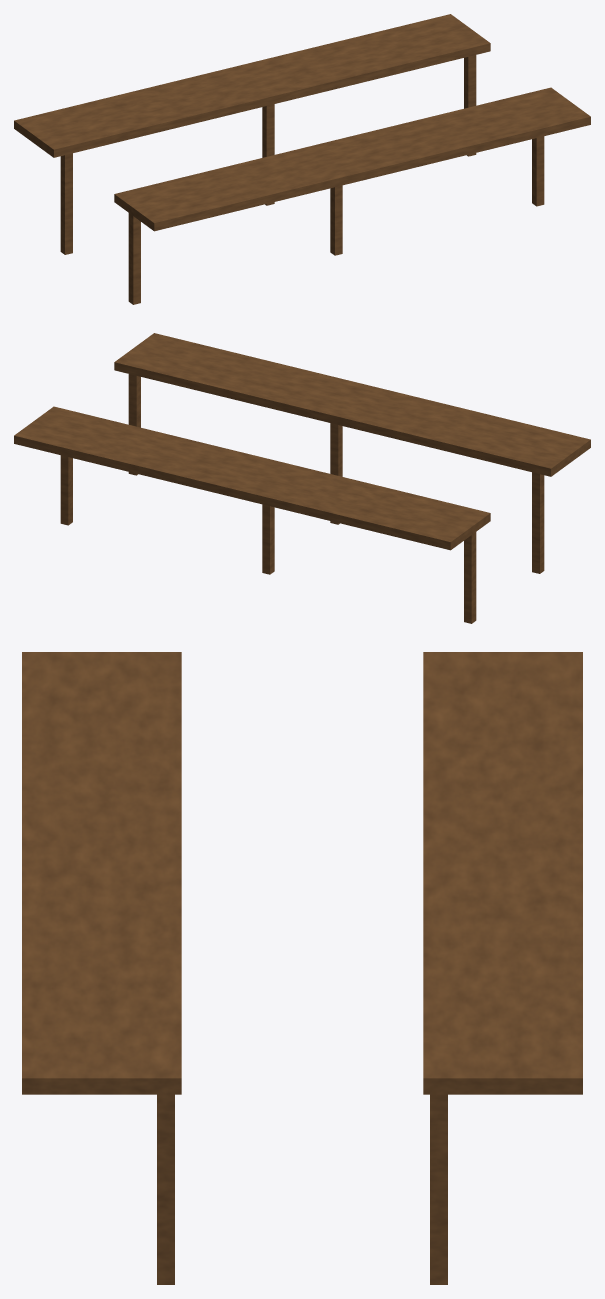
Rendered from lavice_studentky_v3s.glb.
The picture shows the model from 3 angles, top to bottom: view 1: azimuth 30°, elevation 25°; view 2: azimuth 150°, elevation 25°; view 3: azimuth 270°, elevation 25°; orthographic projection. The views are drawn at different scales.
Visible parts, largest first — view 1: lavice_studentky_v3s; view 2: lavice_studentky_v3s; view 3: lavice_studentky_v3s.
Boxes of the visible parts, x1,y1,x2,y2 form: lavice_studentky_v3s: (14,14,590,304); lavice_studentky_v3s: (14,333,590,623); lavice_studentky_v3s: (22,652,582,1284).
Bounding box in the file's own units: 3.92 × 0.9401 × 2.18.
1 material, 1 textured.
